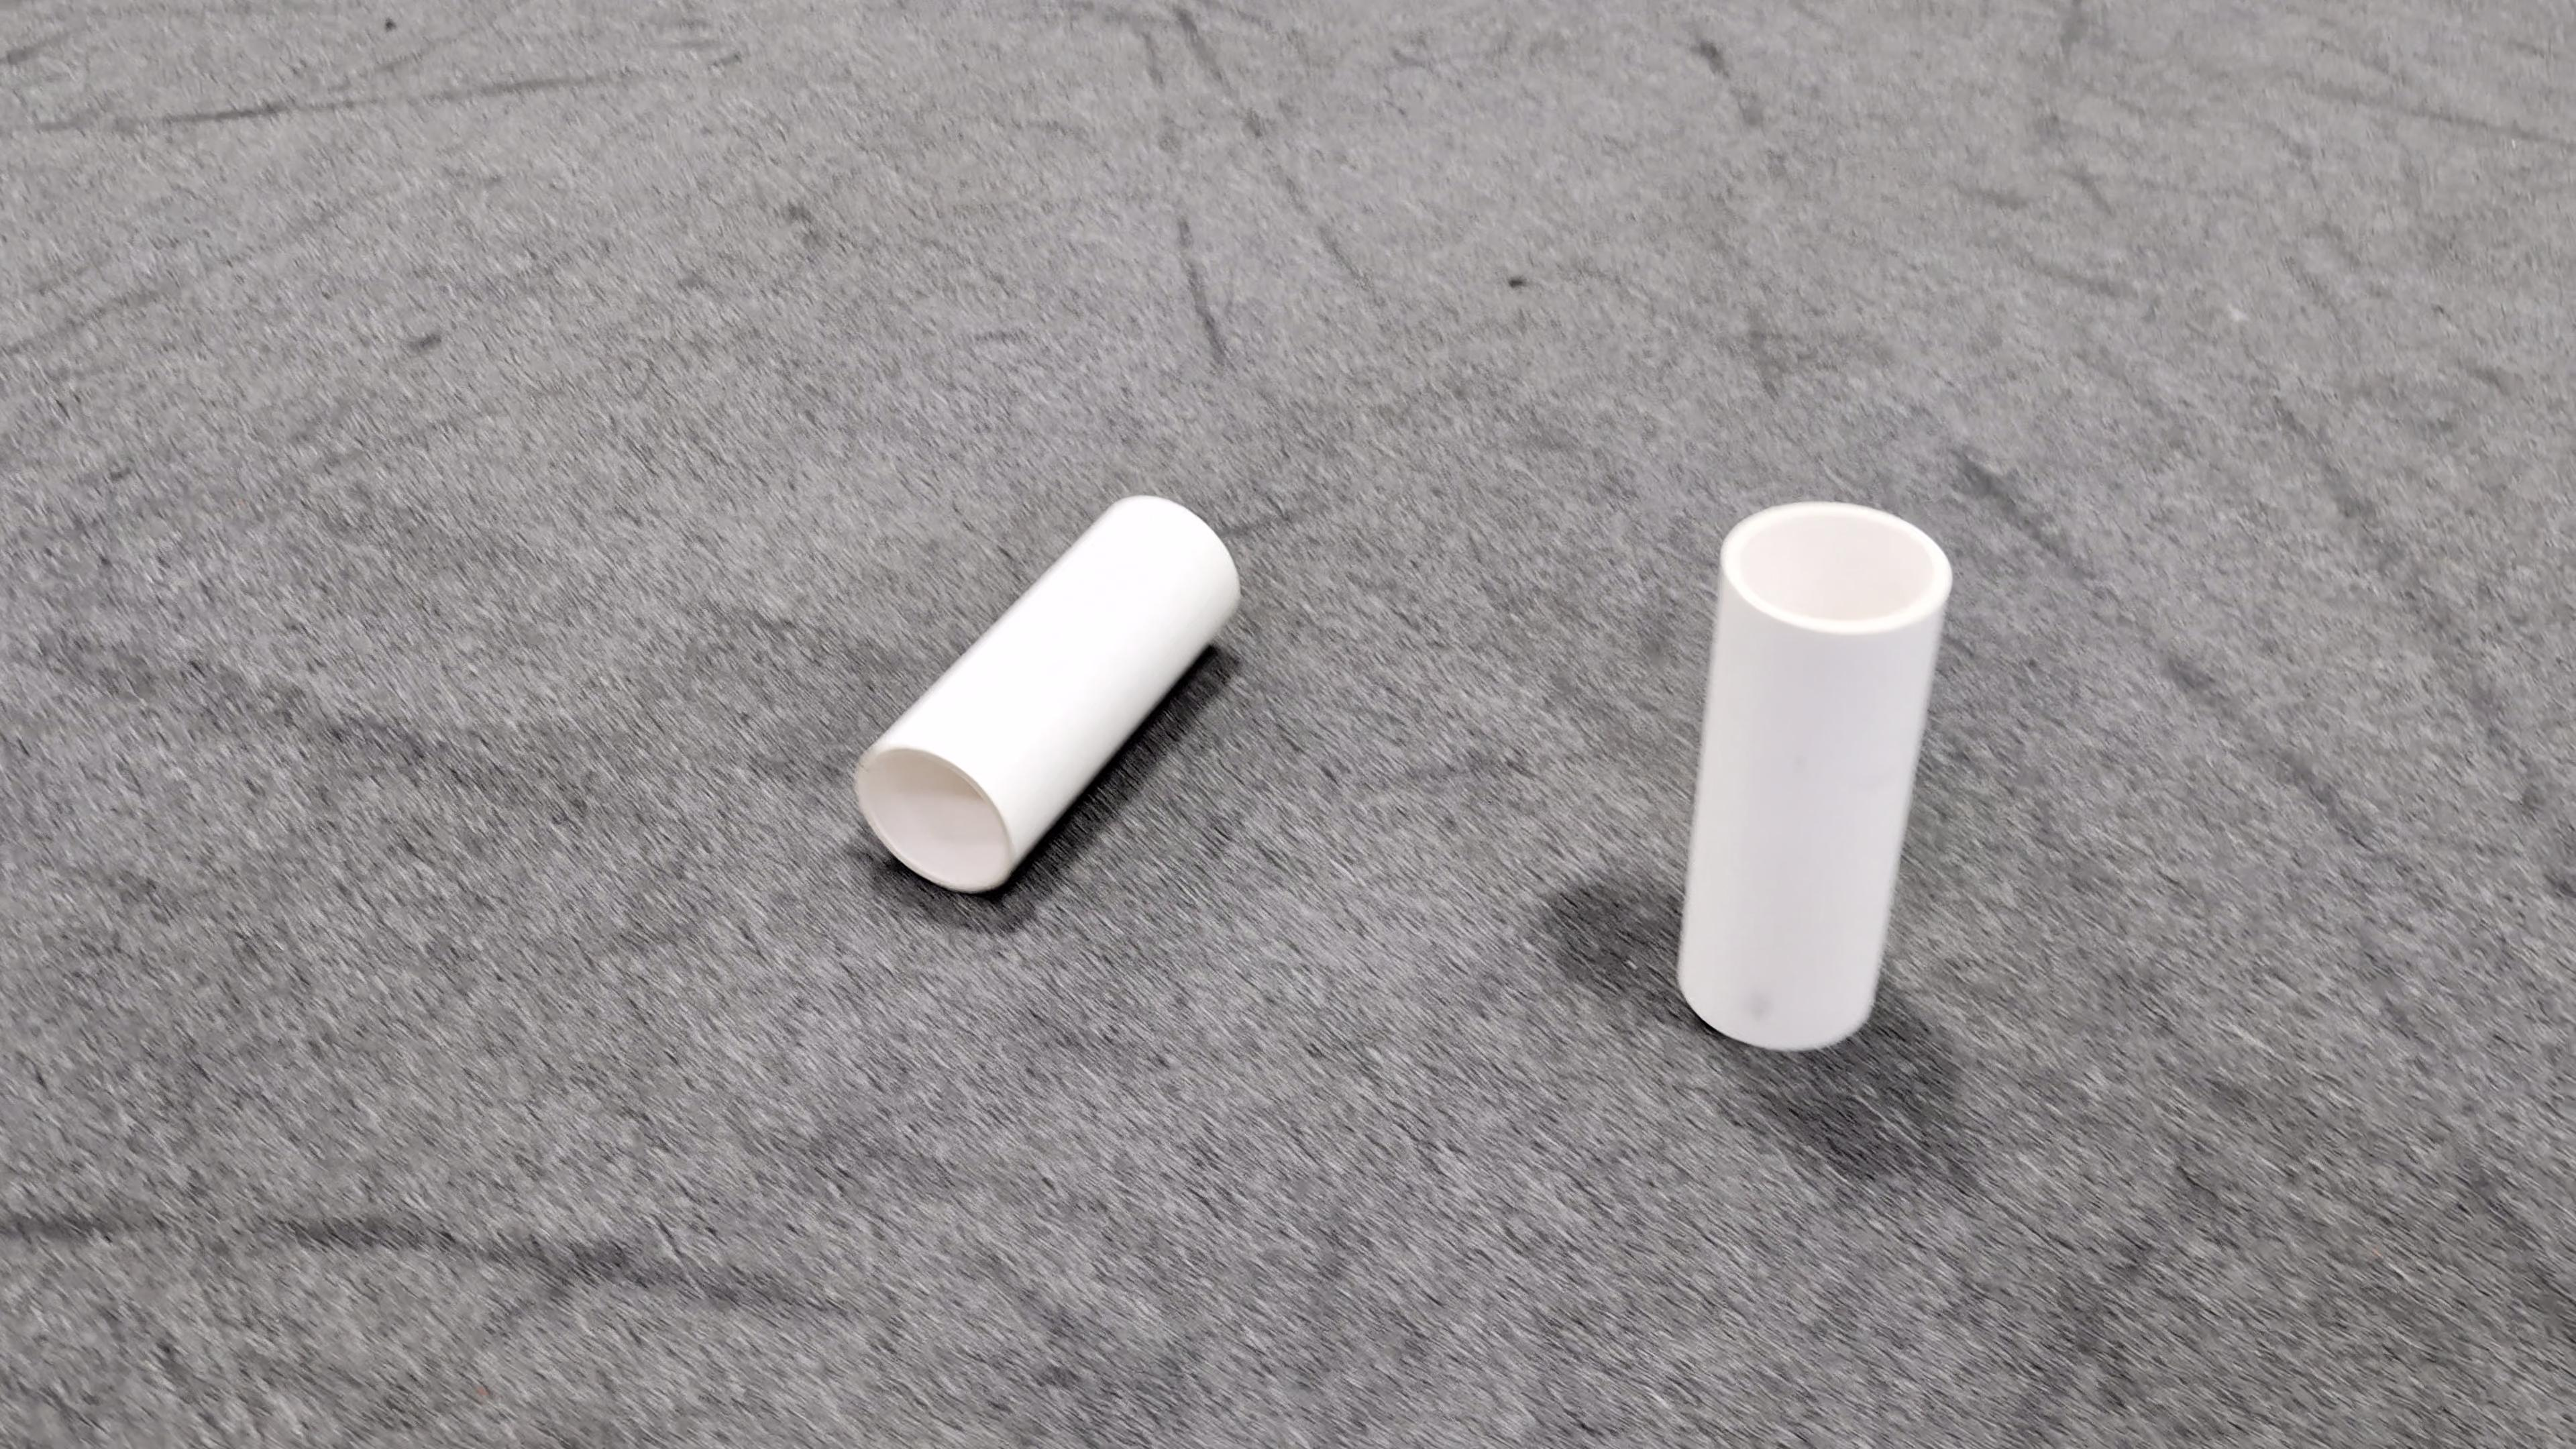coral: (851, 488, 1244, 893), (1672, 499, 1957, 1047)
